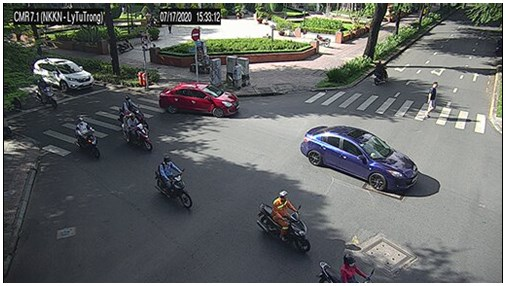di_bo: (427, 82, 437, 119)
xe_hoi: (300, 124, 419, 192), (160, 82, 241, 117), (32, 58, 95, 91)
xe_may: (256, 189, 310, 252), (317, 249, 375, 284), (155, 156, 193, 209), (123, 114, 154, 152), (76, 115, 101, 158), (119, 96, 149, 126), (36, 82, 58, 109), (373, 60, 390, 85), (117, 37, 133, 54)
